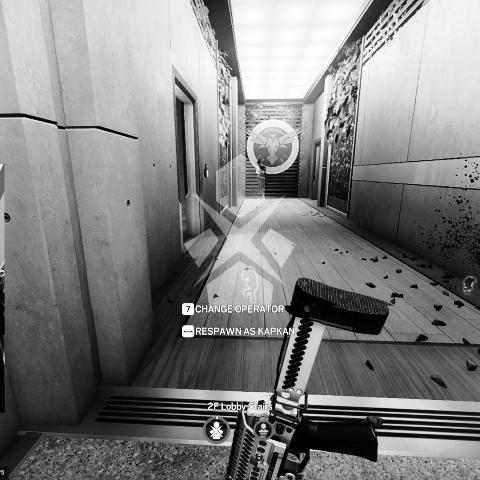Character: (256, 160, 268, 200)
Head: (257, 160, 262, 167)
